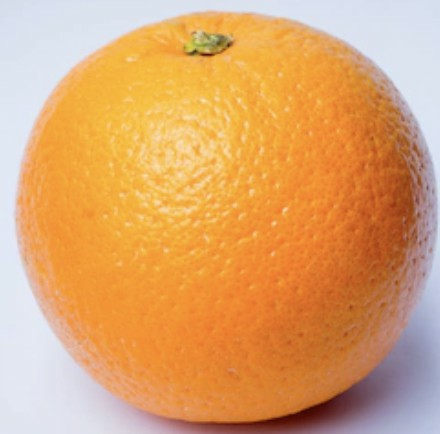fresh_orange: (18, 13, 440, 422)
